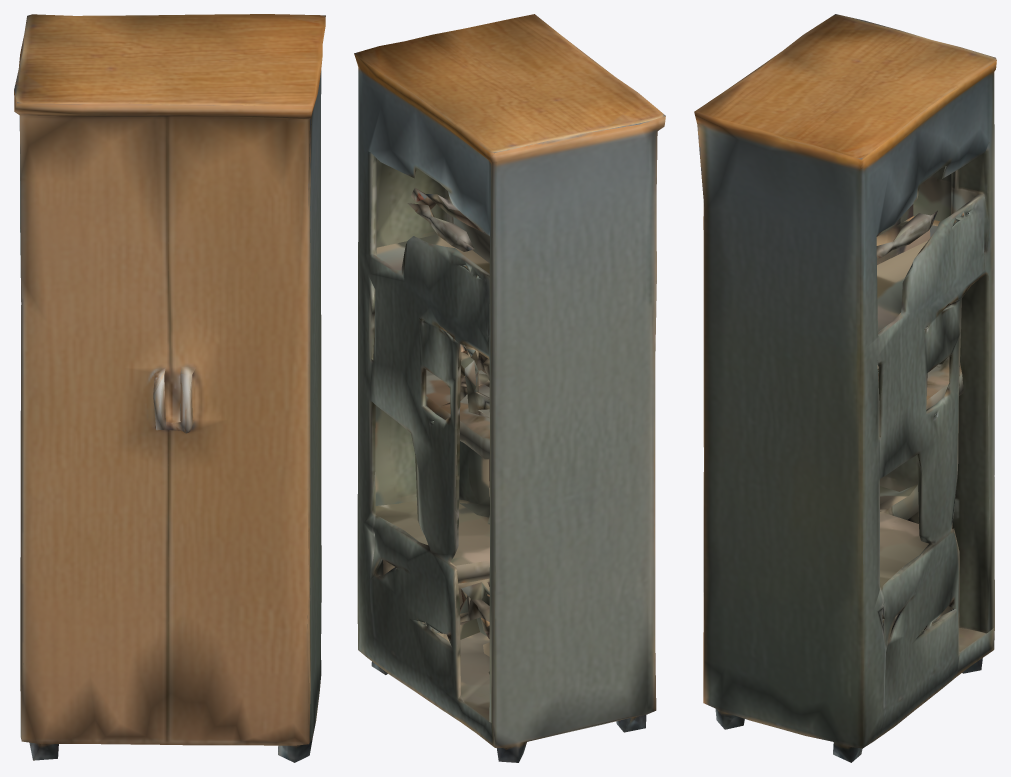
Rendered from Cabinet2.fbx.
3 renders of one model, left to right at view 1: azimuth 30°, elevation 25°; view 2: azimuth 150°, elevation 25°; view 3: azimuth 270°, elevation 25°, orthographic. The views are drawn at different scales.
Parts seen in each view (by area): view 1: material_0; view 2: material_0; view 3: material_0.
Boxes of the visible parts, left/top/right/bottom form: material_0: left=14, top=14, right=325, bottom=762; material_0: left=354, top=14, right=665, bottom=762; material_0: left=694, top=14, right=996, bottom=762.
Size of the model in its own units: 50.85 by 100 by 44.82.
1 material, 1 textured.
